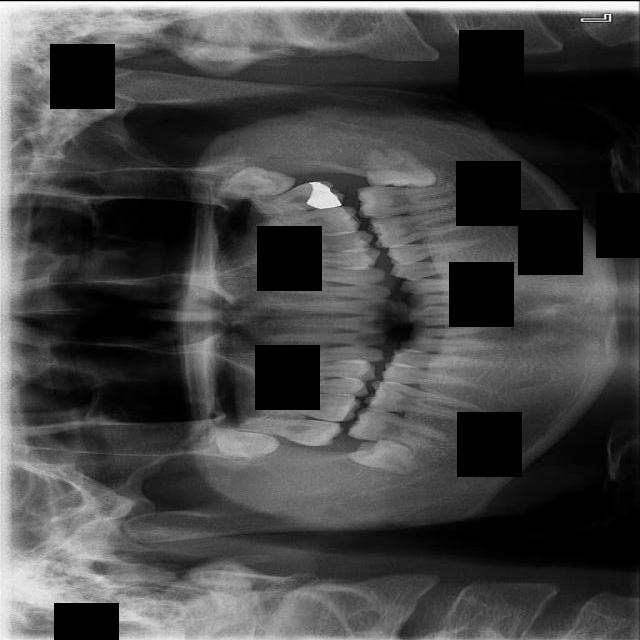3M ESPE Implant: (211, 428, 282, 461)
52: (290, 177, 348, 211)
73: (588, 30, 602, 42)
BioHorizons Implant: (256, 177, 347, 215)
BioLife Implant: (213, 160, 298, 203)
Biomet 3i Implant: (366, 145, 438, 187)
Blue Sky Bio Implant: (356, 184, 456, 217)
Caries: (239, 414, 344, 448)
Implant: (346, 404, 451, 452)
Keystone Dental Implant: (347, 430, 423, 476)
